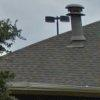Chimney: (56, 0, 89, 44)
